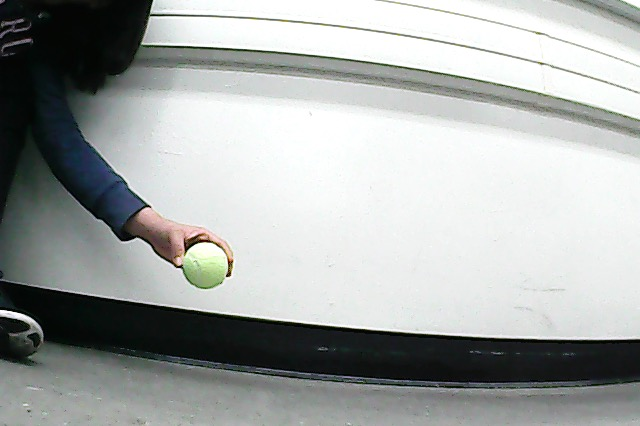ball: (181, 241, 231, 292)
